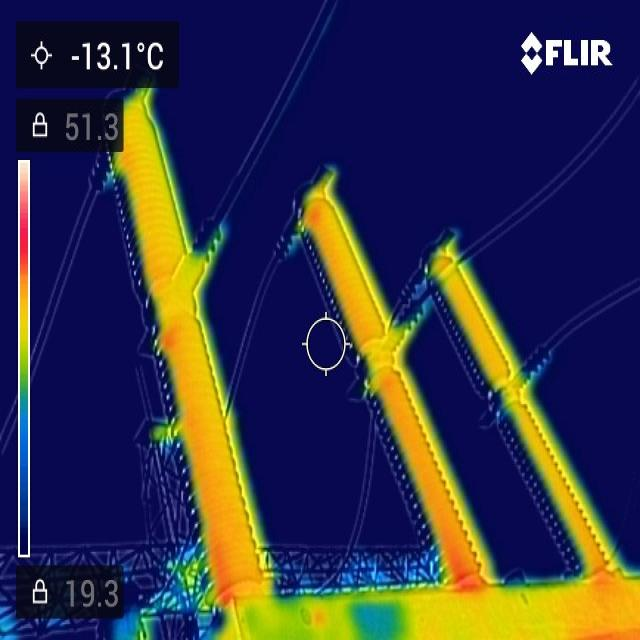Zona_Atenco: (167, 324, 252, 583), (381, 379, 477, 587), (562, 498, 610, 577)
